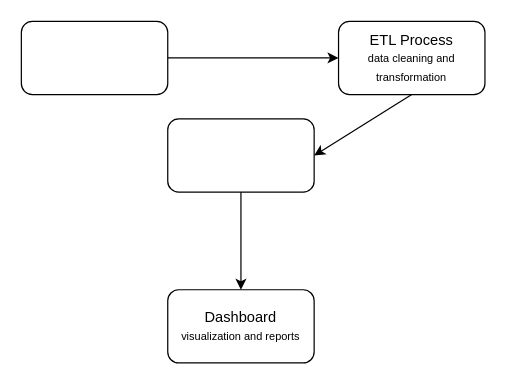
The diagram is 506 pixels wide and 384 high, and some of its shapes have lost their labels. Here are the shapes that lost their labels. From the top down, the centre of each, then its label:
point (94, 57): Data Source Capital Bikeshare dataset (CSV)
point (240, 155): Data Warehouse stores structured data
